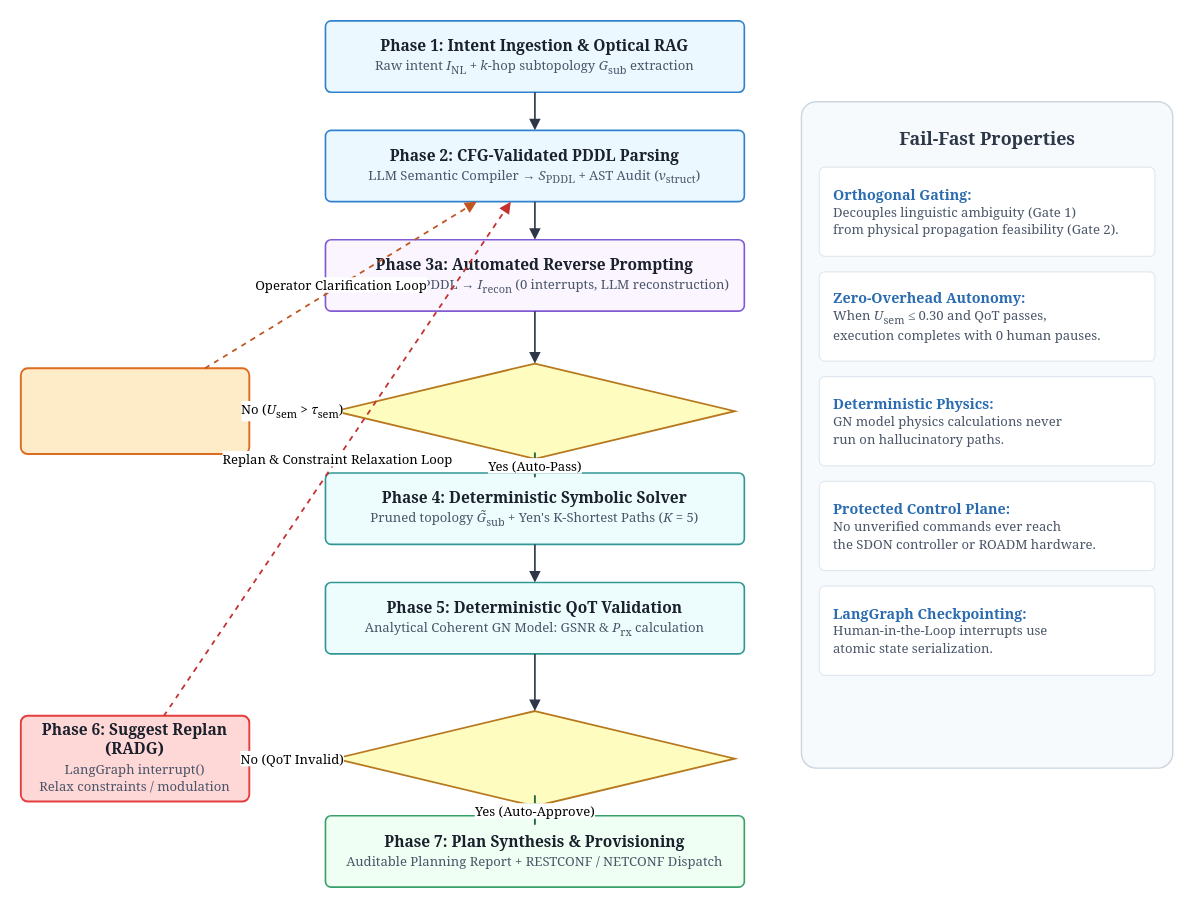
Image size: 1195x909. Some labels were removed from this diagram. Each missing label, with the box of its shape:
GATE 1: Semantic Gate U sem = f ( v struct , d sem ) ≤ τ sem ?: (334, 362, 735, 459)
GATE 2: Physical Risk Gate QoT valid ( π ) = 1 ? (GSNR ≥ GSNR th ): (334, 710, 735, 807)
Phase 3b: HITL Clarify LangGraph interrupt() Operator resolves ambiguity: (19, 367, 250, 454)
